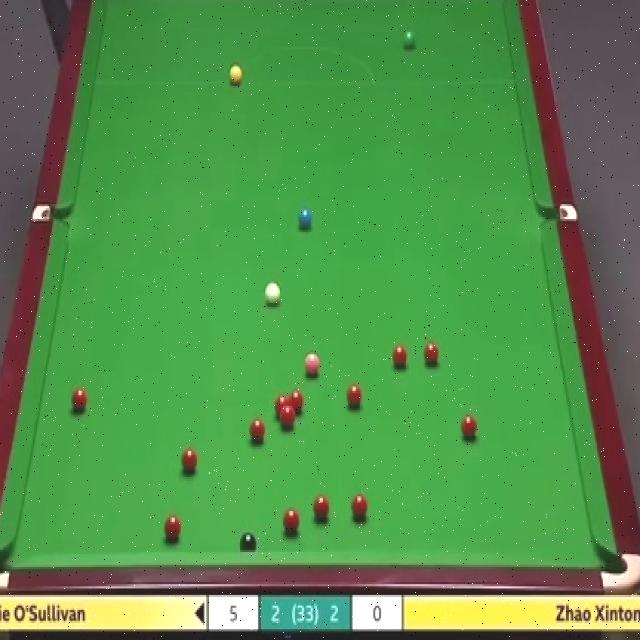black-ball: (239, 532, 257, 552)
blue-ball: (296, 204, 313, 231)
green-ball: (400, 30, 417, 51)
pink-ball: (304, 348, 321, 378)
red-ball: (71, 386, 90, 416), (391, 343, 409, 373), (459, 417, 478, 444), (180, 446, 197, 476), (164, 514, 182, 542), (313, 494, 330, 522), (351, 493, 368, 521), (423, 343, 440, 369), (284, 508, 300, 535), (346, 383, 362, 410), (289, 391, 304, 417), (250, 418, 265, 443), (281, 408, 295, 429), (275, 395, 289, 416)
white-ball: (264, 280, 281, 306)
yellow-ball: (228, 63, 243, 85)
